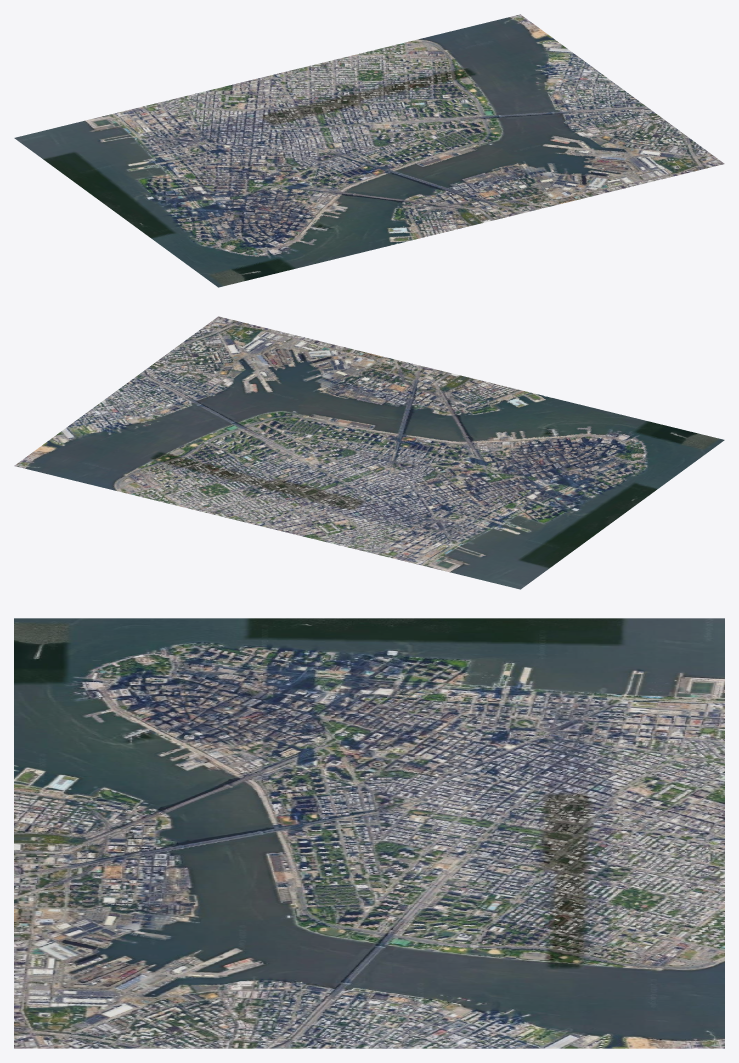
The model's file is manhattan_ground.glb.
The picture shows the model from 3 angles, top to bottom: view 1: azimuth 30°, elevation 25°; view 2: azimuth 150°, elevation 25°; view 3: azimuth 270°, elevation 25°; orthographic projection. The views are drawn at different scales.
Visible parts, largest first — view 1: Ground_Blocks; view 2: Ground_Blocks; view 3: Ground_Blocks.
Boxes of the visible parts, left/top/right/bottom form: Ground_Blocks: left=14, top=14, right=724, bottom=287; Ground_Blocks: left=14, top=316, right=724, bottom=589; Ground_Blocks: left=14, top=618, right=724, bottom=1048.
Bounding box in the file's own units: 7001 × 0 × 4892.
Materials: 1 (1 with a texture image).
